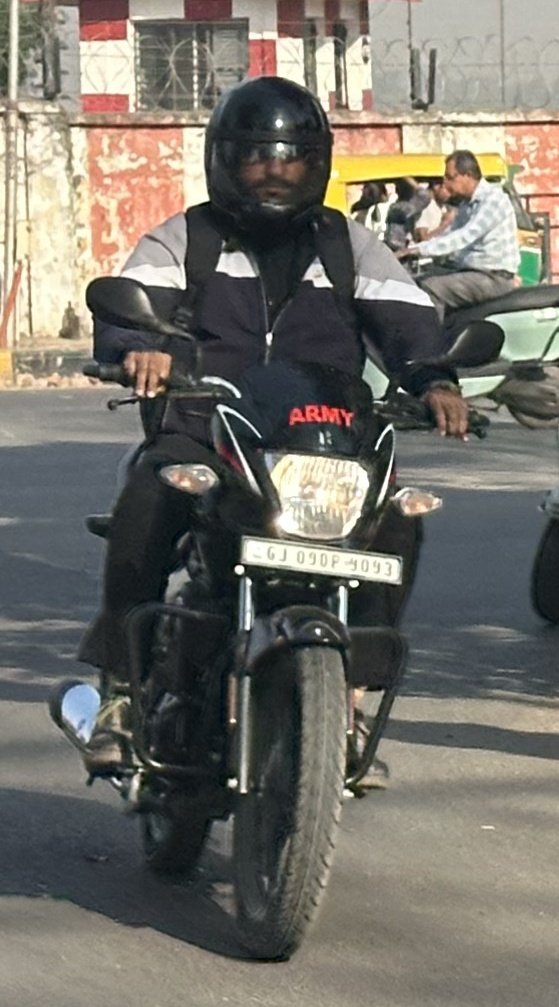BikeWithRider: (46, 72, 506, 965), (377, 143, 559, 433)
Helmet: (203, 72, 338, 244)
NoHelmet: (439, 146, 492, 205)
